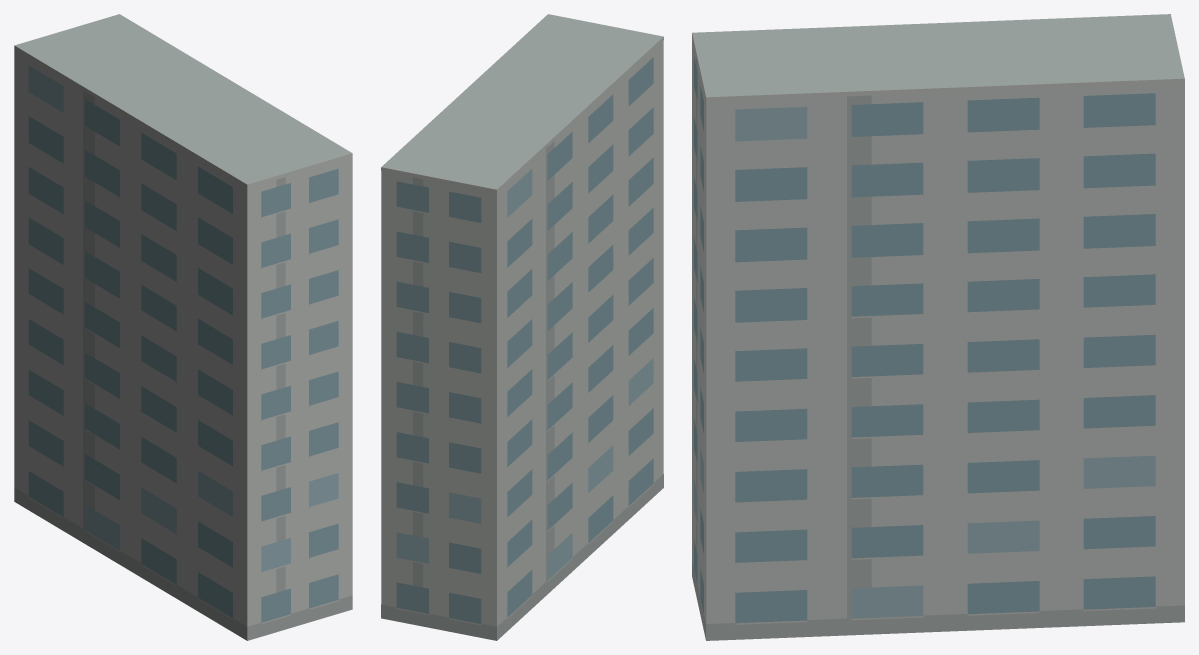
File: residential-9c19ca52-a207-4033-9196-19a513afed46.glb
3 views of the same model, side by side, from view 1: azimuth 30°, elevation 25°; view 2: azimuth 150°, elevation 25°; view 3: azimuth 270°, elevation 25° (orthographic). The views are drawn at different scales.
Parts seen in each view (by area): view 1: residential-9c19ca52-a207-4033-9196-19a513afed46.tmp; view 2: residential-9c19ca52-a207-4033-9196-19a513afed46.tmp; view 3: residential-9c19ca52-a207-4033-9196-19a513afed46.tmp.
Part boxes in pixels (x1,y1,x2,y2): residential-9c19ca52-a207-4033-9196-19a513afed46.tmp: (14, 14, 352, 640); residential-9c19ca52-a207-4033-9196-19a513afed46.tmp: (381, 14, 663, 640); residential-9c19ca52-a207-4033-9196-19a513afed46.tmp: (692, 14, 1184, 640).
Bounding box in the file's own units: 9.54 × 29 × 23.83.
